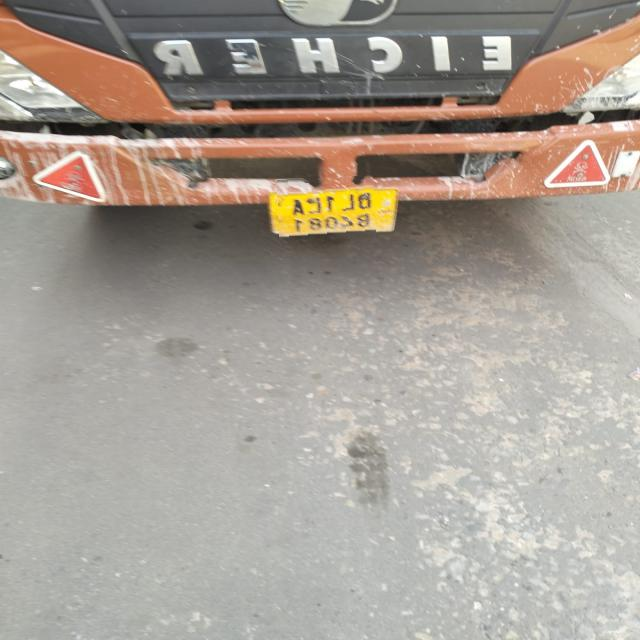License-plate: (277, 176, 376, 245)
